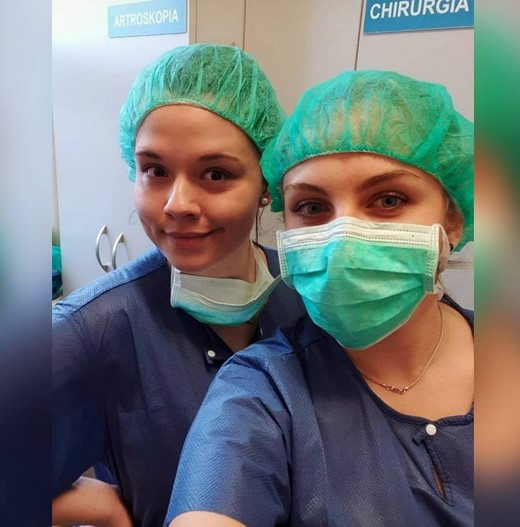face_no_mask: (122, 77, 268, 273)
face_with_mask: (266, 68, 469, 352)
